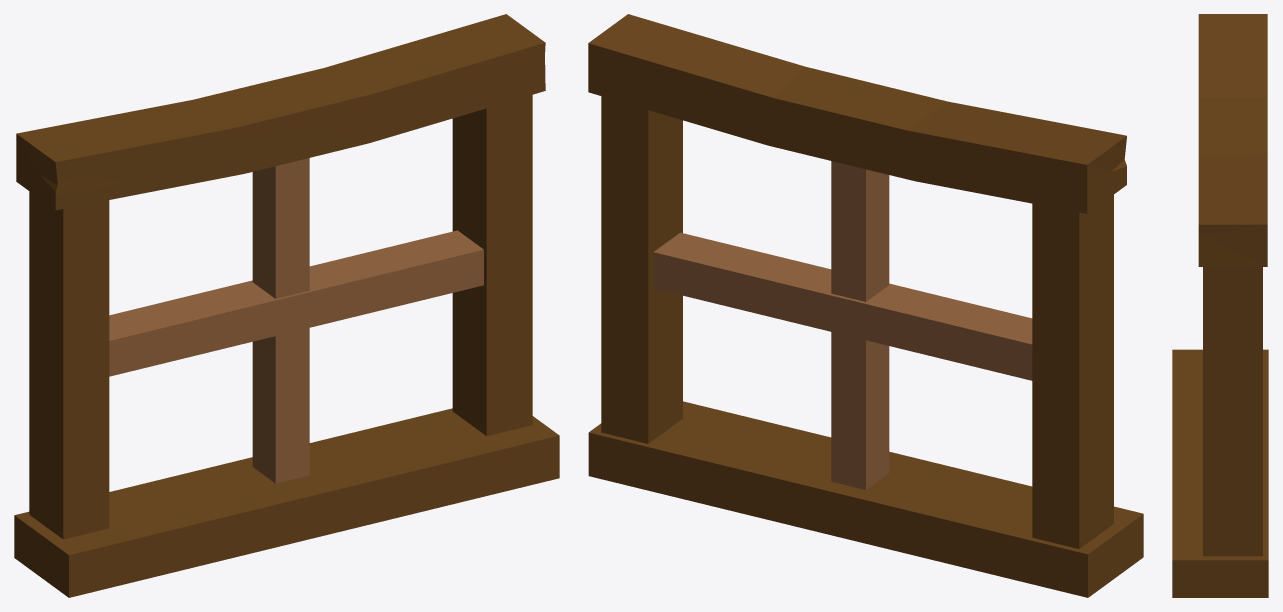
File: Window_01.fbx
3 renders of one model, left to right at view 1: azimuth 30°, elevation 25°; view 2: azimuth 150°, elevation 25°; view 3: azimuth 270°, elevation 25°, orthographic. The views are drawn at different scales.
Visible parts, largest first — view 1: Window_01; view 2: Window_01; view 3: Window_01.
Part boxes in pixels (x1,y1,x2,y2): Window_01: (14,14,559,597); Window_01: (588,14,1143,597); Window_01: (1172,14,1268,597).
Size of the model in its own units: 113 by 93.37 by 21.77.
